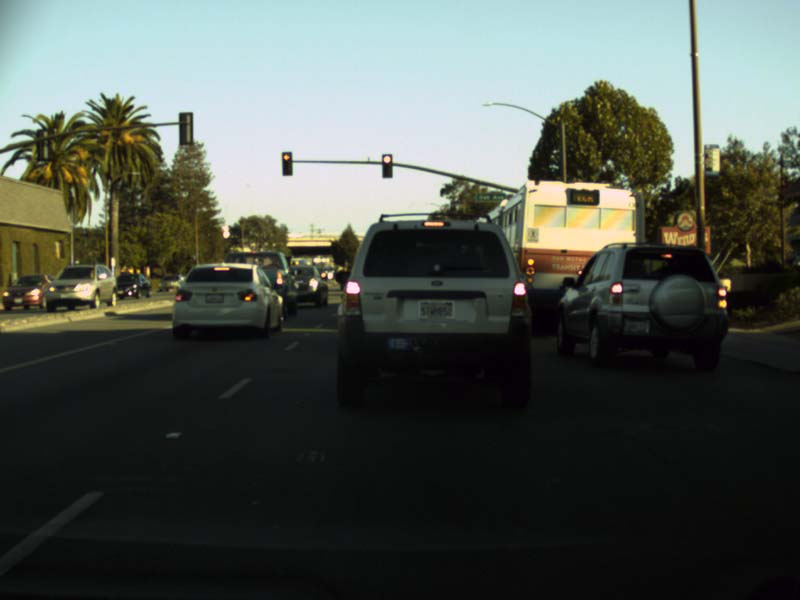Red: (282, 151, 292, 176), (382, 154, 392, 177)
